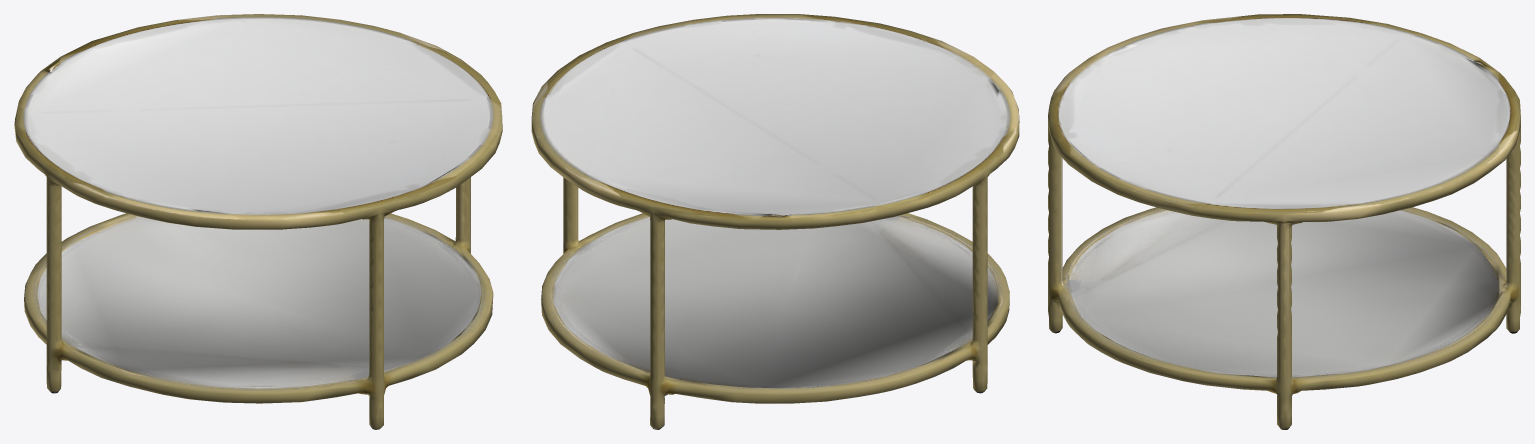
The model's file is gold_round_coffee_table0428040134_texture.glb.
3 views of the same model, side by side, from view 1: azimuth 30°, elevation 25°; view 2: azimuth 150°, elevation 25°; view 3: azimuth 270°, elevation 25° (orthographic). The views are drawn at different scales.
Parts seen in each view (by area): view 1: Mesh_0.002; view 2: Mesh_0.002; view 3: Mesh_0.002.
Boxes of the visible parts, bbox=[...] form: Mesh_0.002: bbox=[14, 14, 502, 429]; Mesh_0.002: bbox=[531, 14, 1019, 429]; Mesh_0.002: bbox=[1048, 14, 1520, 429].
Bounding box in the file's own units: 1.2 × 0.6096 × 1.2.
1 material, 1 textured.
